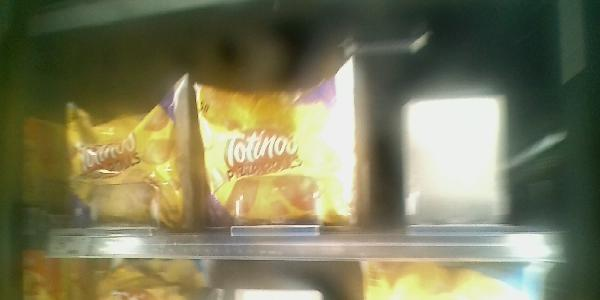icecream: (200, 56, 360, 238), (54, 73, 198, 236)
